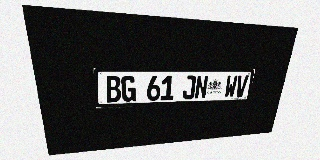1: (160, 76, 175, 100)
6: (147, 76, 161, 101)
B: (105, 76, 121, 102)
G: (121, 76, 136, 102)
J: (182, 75, 196, 99)
N: (194, 75, 209, 99)
V: (234, 75, 249, 97)
W: (224, 75, 238, 98)
